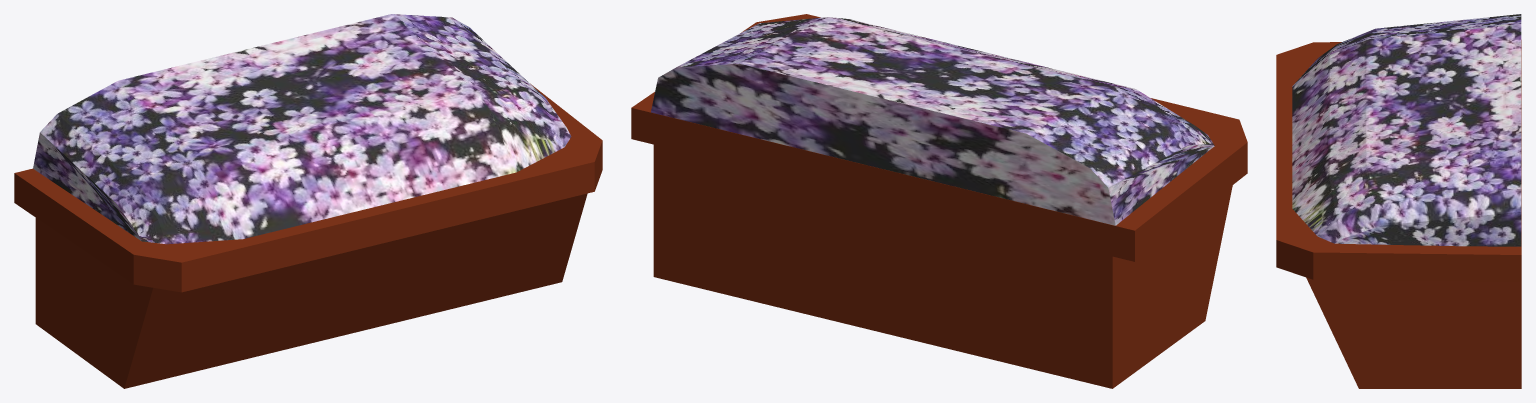
The model's file is flowers (1).fbx.
The picture shows the model from 3 angles, left to right: view 1: azimuth 30°, elevation 25°; view 2: azimuth 150°, elevation 25°; view 3: azimuth 270°, elevation 25°; orthographic projection. The views are drawn at different scales.
Parts seen in each view (by area): view 1: bloemen, pot; view 2: pot, bloemen; view 3: bloemen, pot.
Boxes of the visible parts, x1,y1,x2,y2 form: bloemen: [33, 14, 571, 244]; pot: [14, 83, 602, 388]; pot: [631, 14, 1247, 388]; bloemen: [651, 17, 1214, 225]; bloemen: [1292, 14, 1521, 246]; pot: [1276, 40, 1521, 388].
Bounding box in the file's own units: 303 × 135 × 146.
